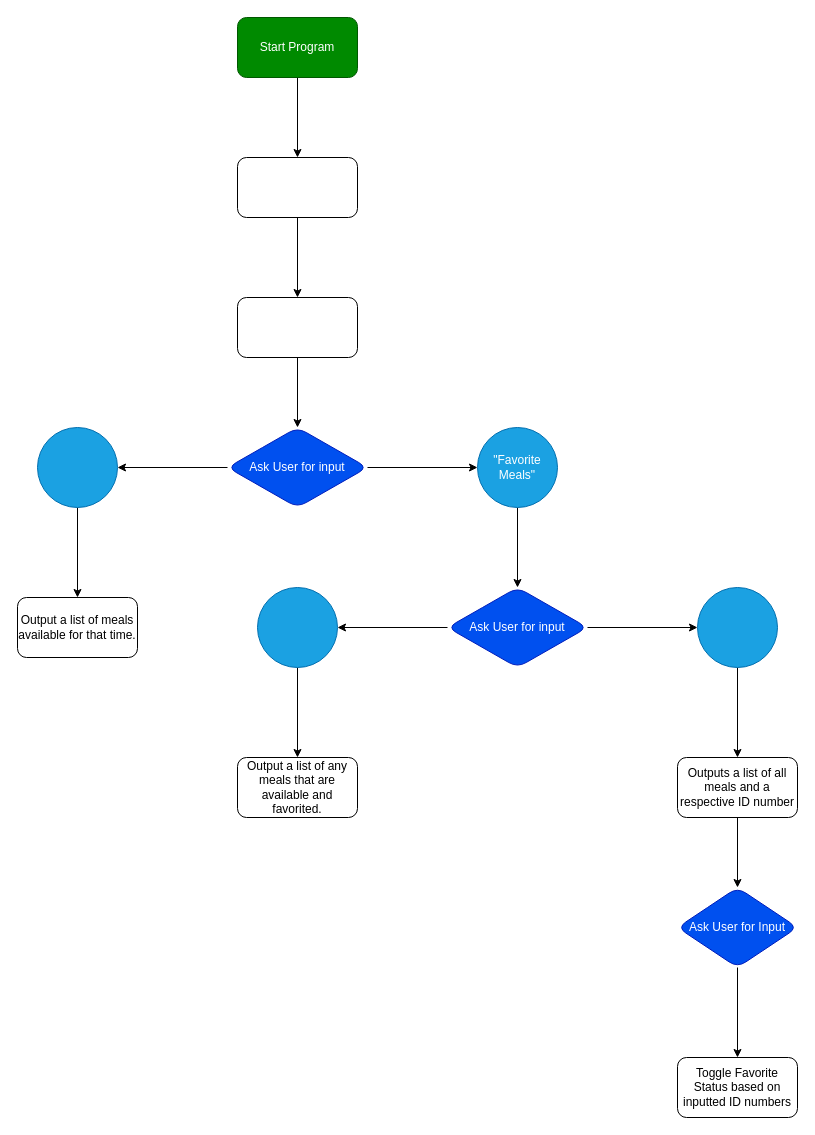
The diagram is 815 pixels wide and 1135 high, and some of its shapes have lost their labels. The shapes that lost their labels are listed below. From the top down, each one's centre as x and y in pixels, then its label:
(x=297, y=187): Parse JSON data from Purdue Dining
(x=297, y=327): Sort Data into Arrays
(x=77, y=467): "View Available Meals"
(x=297, y=627): "Available Favorited Meals"
(x=737, y=627): "Select Favorites"
